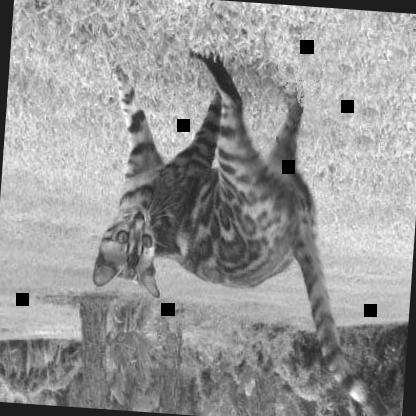cat: (76, 42, 415, 415)
